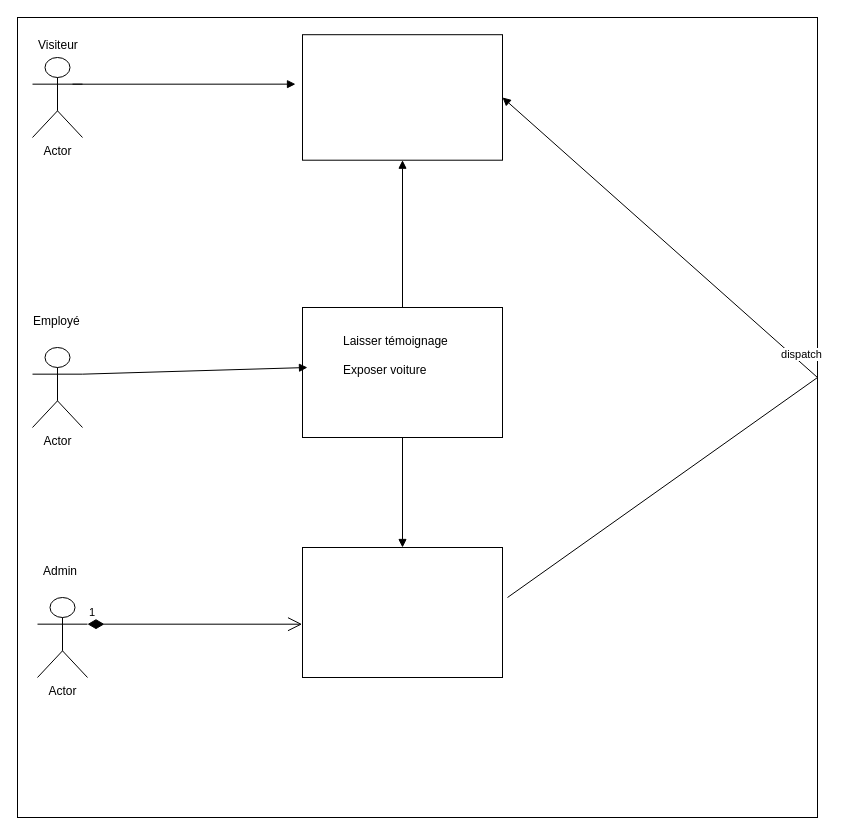
This 843x835 diagram has some shape labels left out. Here are the shapes that lost their labels. From the top down, the box of each, then its label:
(302, 34, 502, 160): Filtrer véhicule Laisser avis Filtrer véhicule
(302, 546, 502, 678): Se connecter Modifier service Definir horaires Exposer voitures
